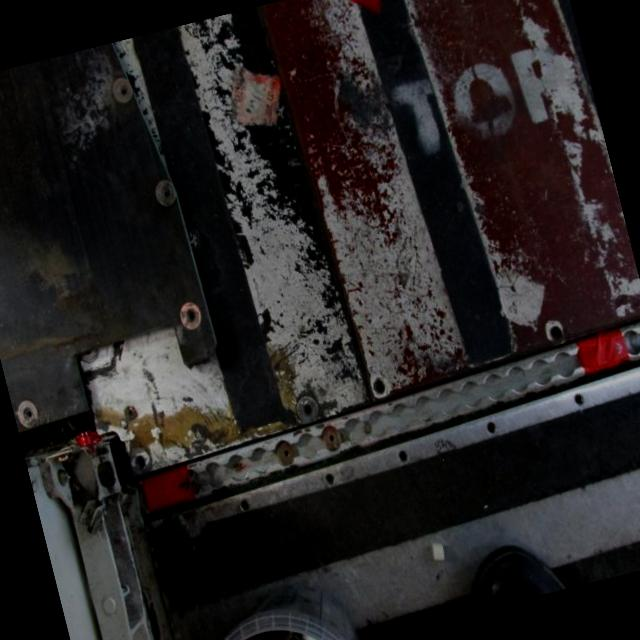Missing Fastener: (170, 290, 210, 336), (537, 308, 574, 351), (362, 364, 400, 404), (290, 388, 326, 424), (149, 172, 183, 210), (123, 441, 159, 476), (11, 392, 44, 428), (106, 72, 138, 108), (228, 488, 260, 520), (567, 384, 596, 418), (314, 458, 342, 491), (145, 514, 175, 544), (479, 410, 505, 442), (392, 442, 414, 471)
